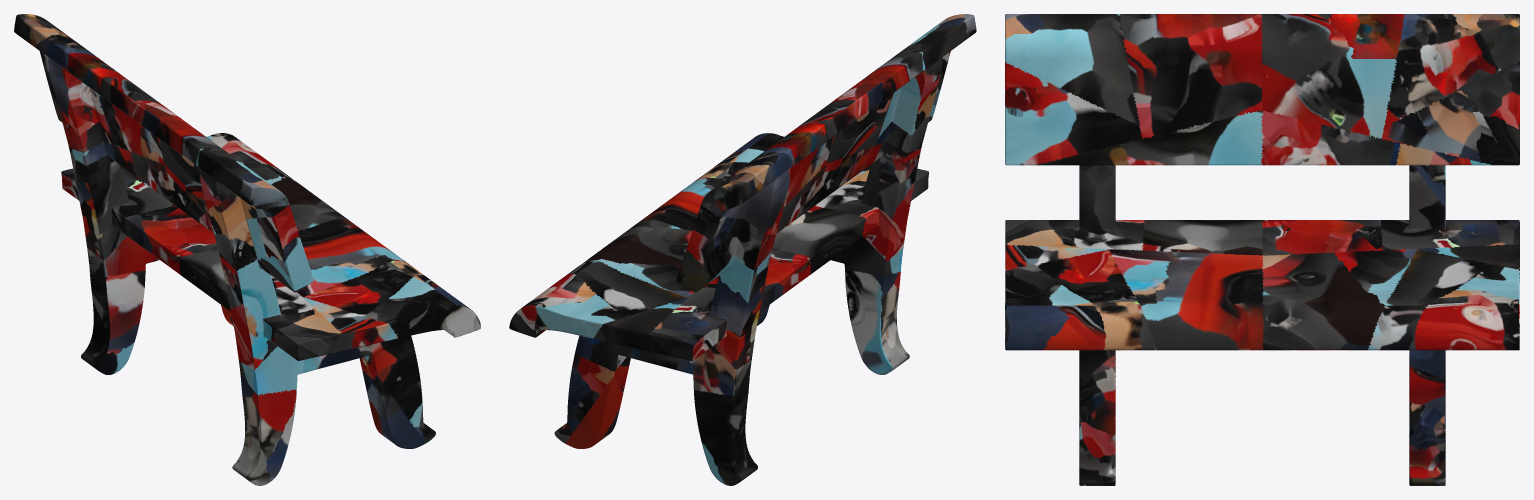
3 renders of one model, left to right at view 1: azimuth 30°, elevation 25°; view 2: azimuth 150°, elevation 25°; view 3: azimuth 270°, elevation 25°, orthographic. The views are drawn at different scales.
Visible parts, largest first — view 1: tripo_node_cda68116-f707-41a1-9b37-4219aa70b418; view 2: tripo_node_cda68116-f707-41a1-9b37-4219aa70b418; view 3: tripo_node_cda68116-f707-41a1-9b37-4219aa70b418.
Part boxes in pixels (<box>): tripo_node_cda68116-f707-41a1-9b37-4219aa70b418: <box>14,14,480,485</box>; tripo_node_cda68116-f707-41a1-9b37-4219aa70b418: <box>509,14,976,485</box>; tripo_node_cda68116-f707-41a1-9b37-4219aa70b418: <box>1005,14,1519,485</box>.
Size of the model in its own units: 56.65 by 78.03 by 100.
